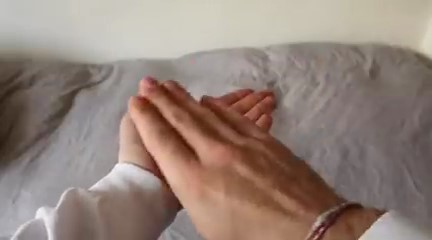H: (105, 58, 414, 233)
